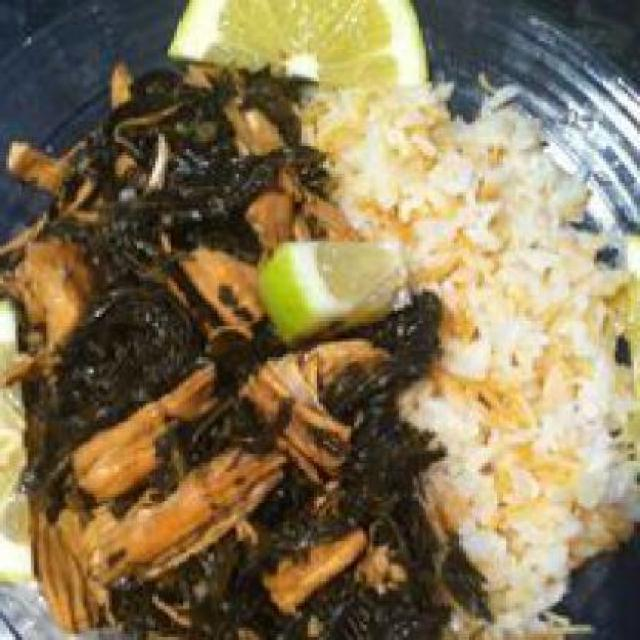molokhia: (3, 62, 345, 636)
